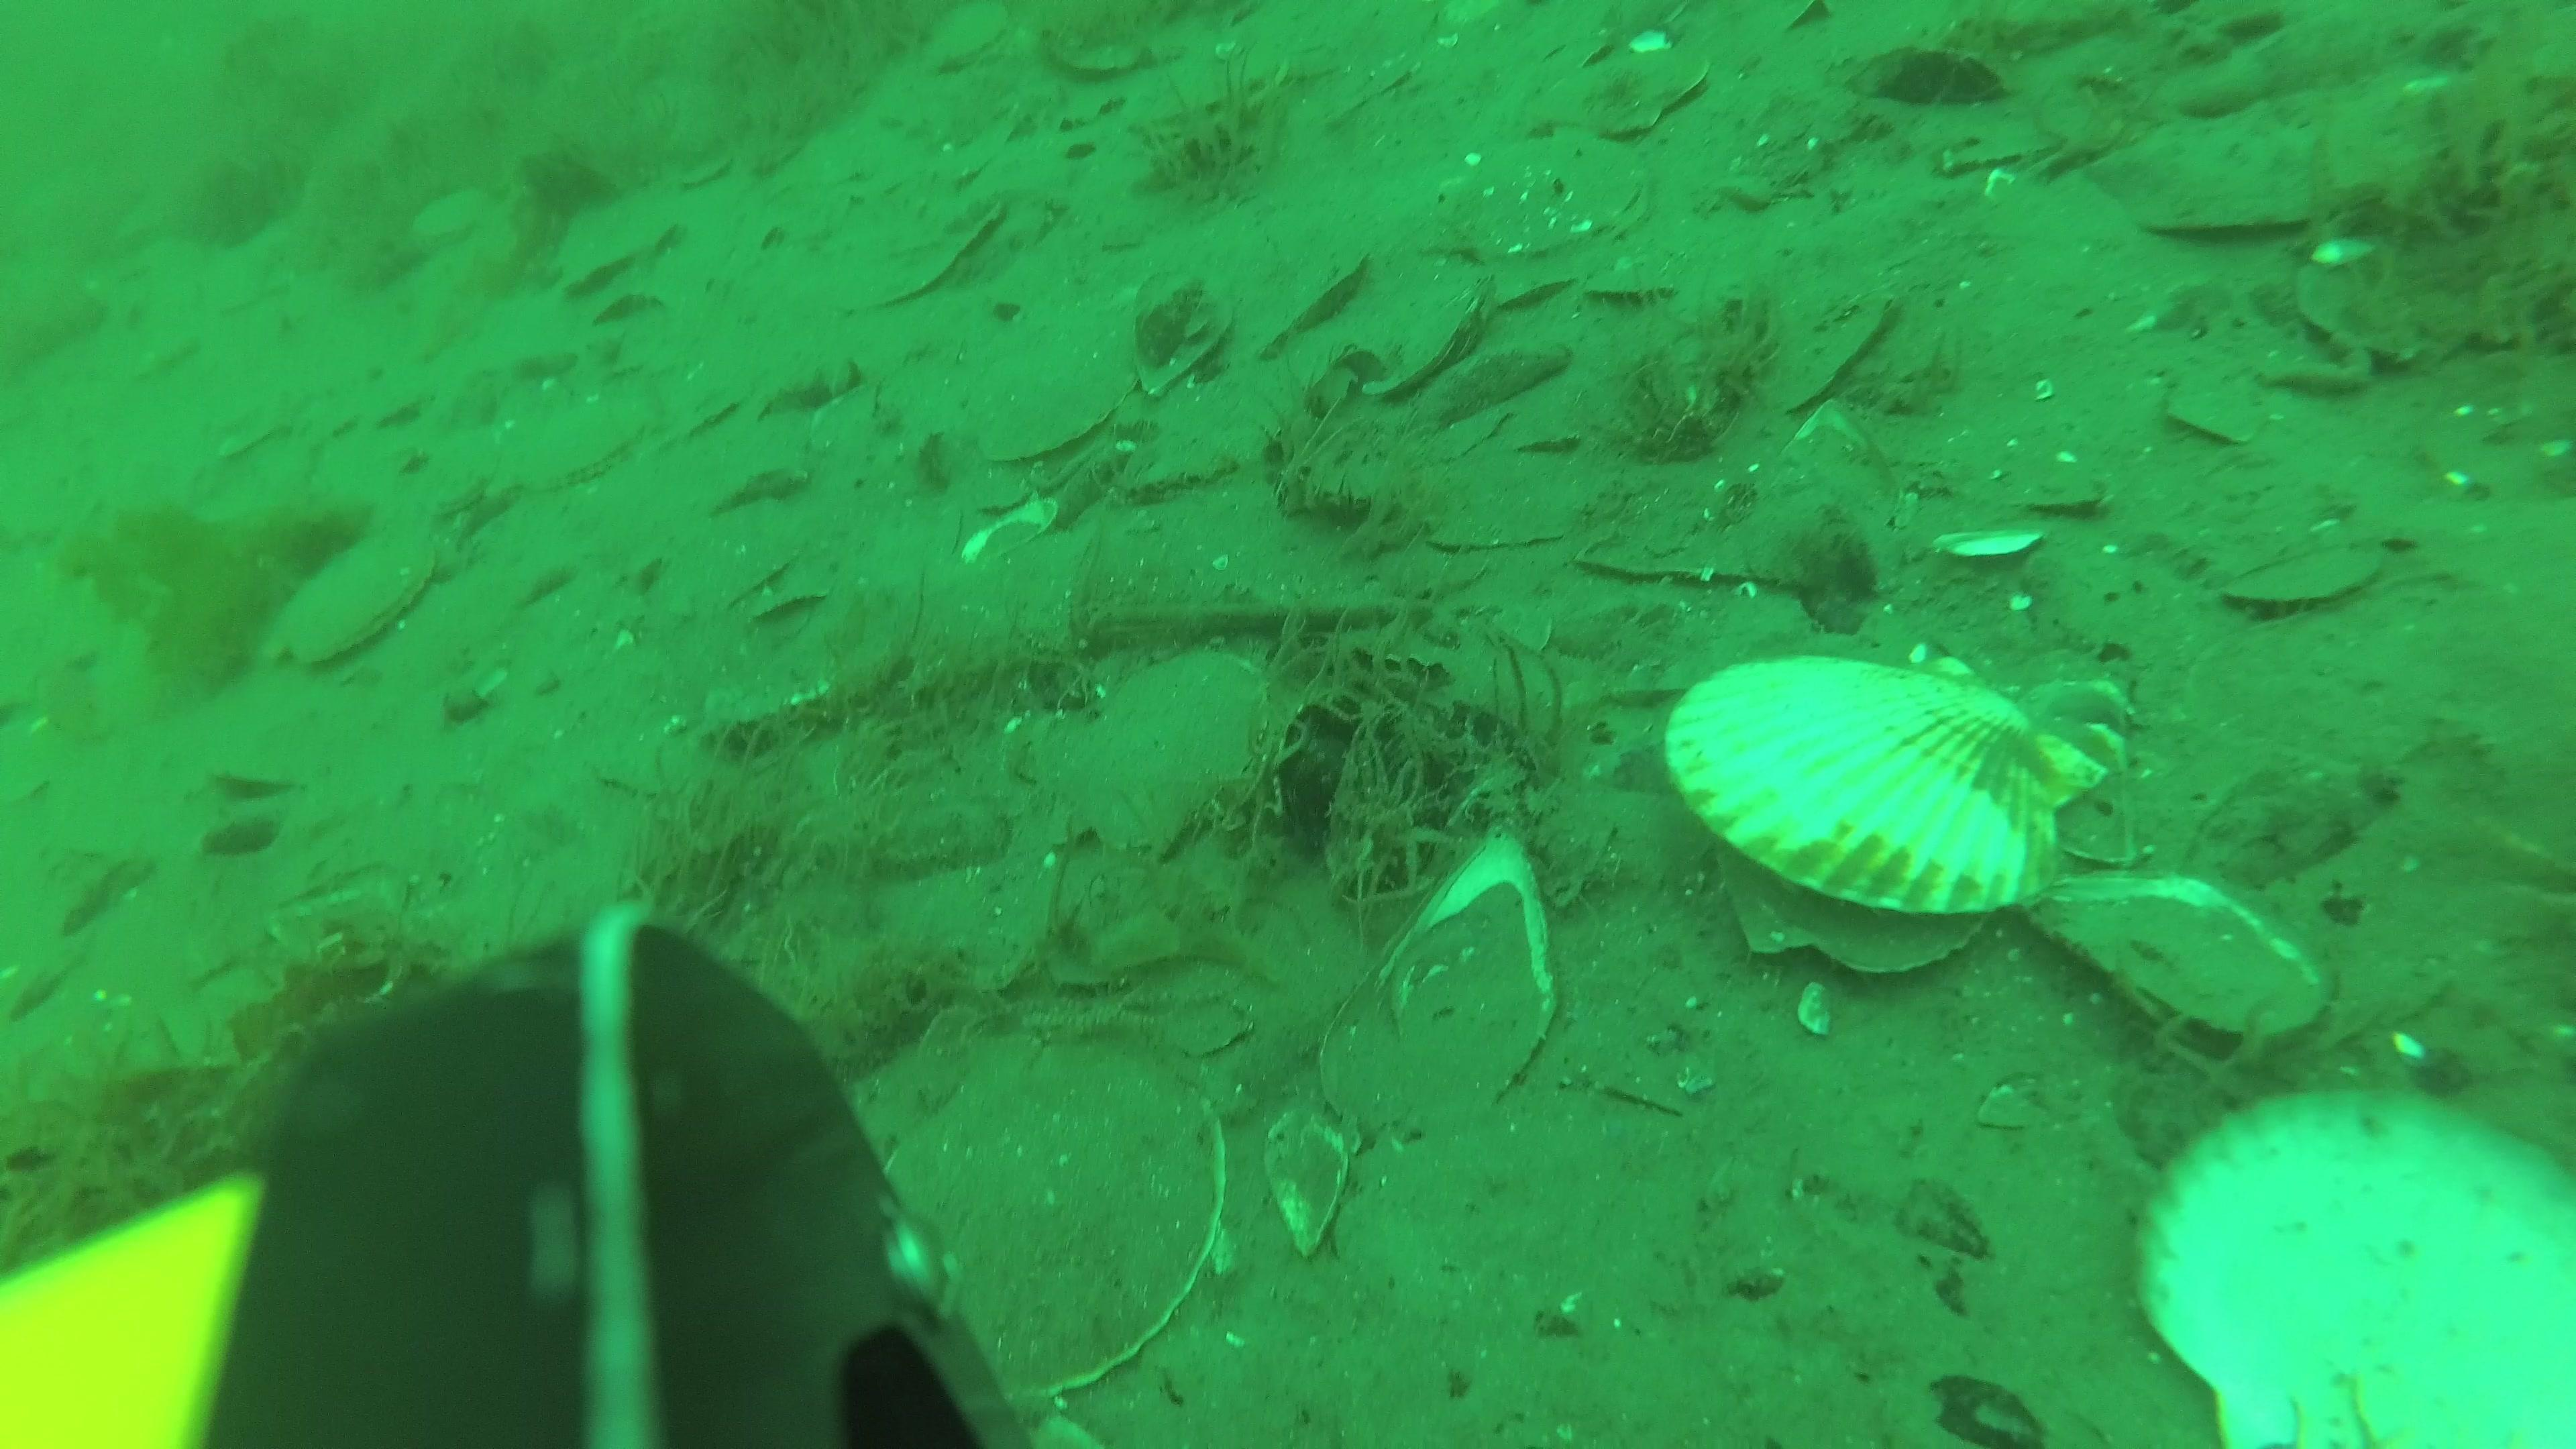scallop: (1674, 633, 2116, 996), (2141, 1092, 2576, 1449), (883, 1033, 1226, 1401), (2029, 862, 2328, 1056), (1042, 640, 1279, 862), (1454, 120, 1665, 269), (264, 510, 451, 665), (971, 349, 1131, 469), (501, 375, 662, 490), (1362, 269, 1491, 400), (2231, 533, 2390, 623), (1244, 241, 1375, 350), (1580, 46, 1716, 142), (563, 219, 683, 299), (1499, 248, 1582, 315), (1585, 251, 1679, 304)
